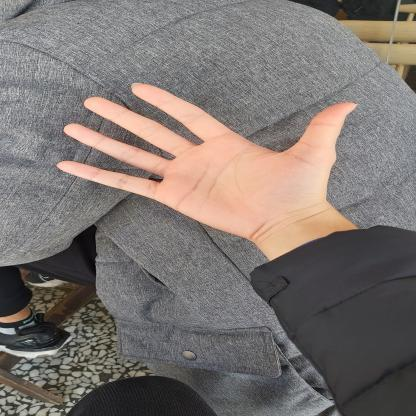bare_hand: (39, 68, 373, 238)
